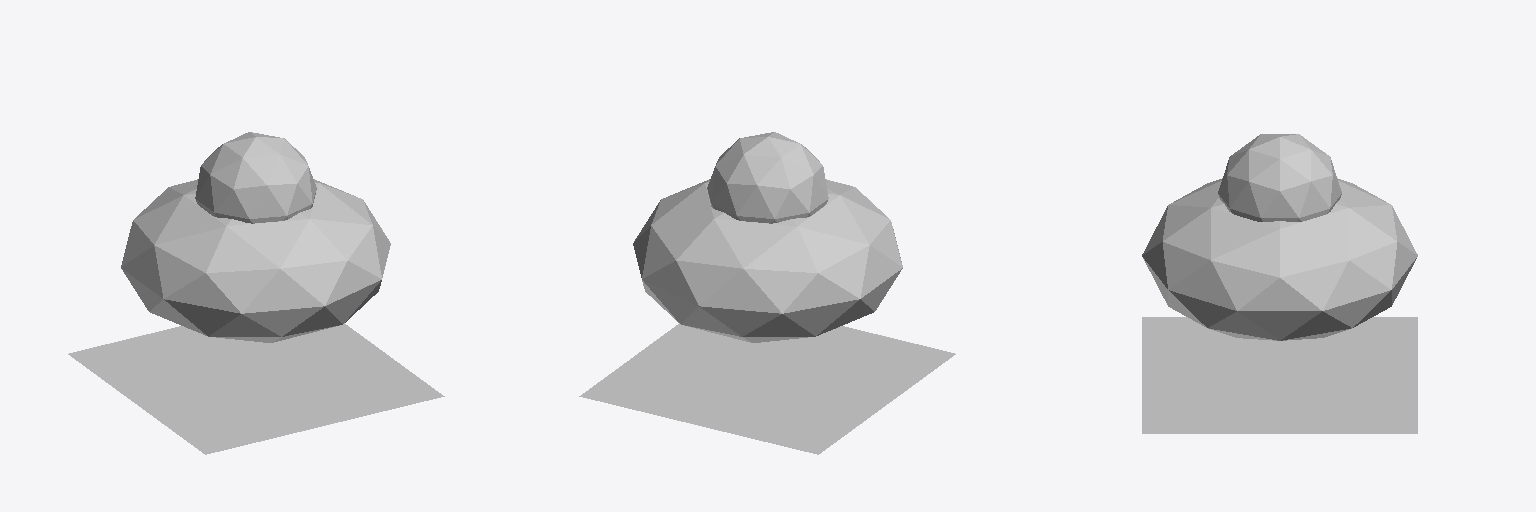
The model's file is car8.obj.
3 renders of one model, left to right at view 1: azimuth 30°, elevation 25°; view 2: azimuth 150°, elevation 25°; view 3: azimuth 270°, elevation 25°, orthographic.
Parts seen in each view (by area): view 1: Icosphere; view 2: Icosphere; view 3: Icosphere.
Boxes of the visible parts, box(x1,y1,x2,y2) form: Icosphere: box(68, 132, 444, 454); Icosphere: box(579, 132, 955, 454); Icosphere: box(1142, 134, 1417, 433).
Bounding box in the file's own units: 2 × 1.9 × 2.